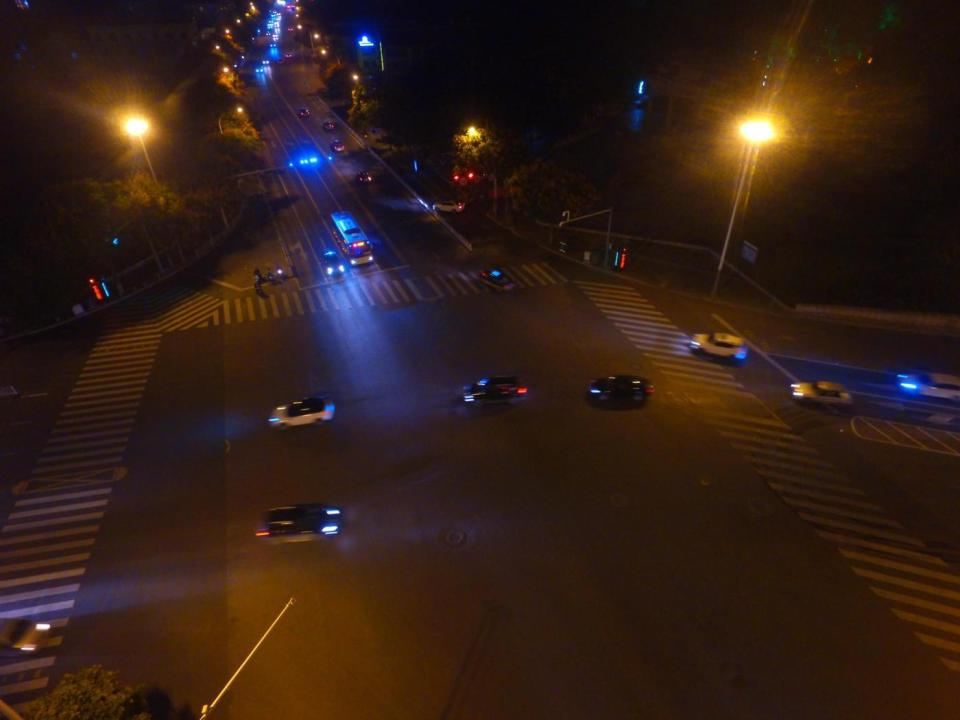bus: (329, 210, 375, 268)
car: (258, 502, 341, 543), (268, 394, 335, 431), (0, 614, 47, 658), (462, 376, 527, 406), (790, 379, 854, 409), (588, 373, 654, 402), (692, 332, 749, 362), (478, 269, 516, 293), (322, 252, 344, 277), (430, 199, 463, 212), (355, 172, 370, 184), (332, 141, 346, 152), (300, 106, 311, 118), (323, 121, 335, 130), (255, 65, 264, 74), (260, 56, 269, 65), (267, 42, 277, 49)
